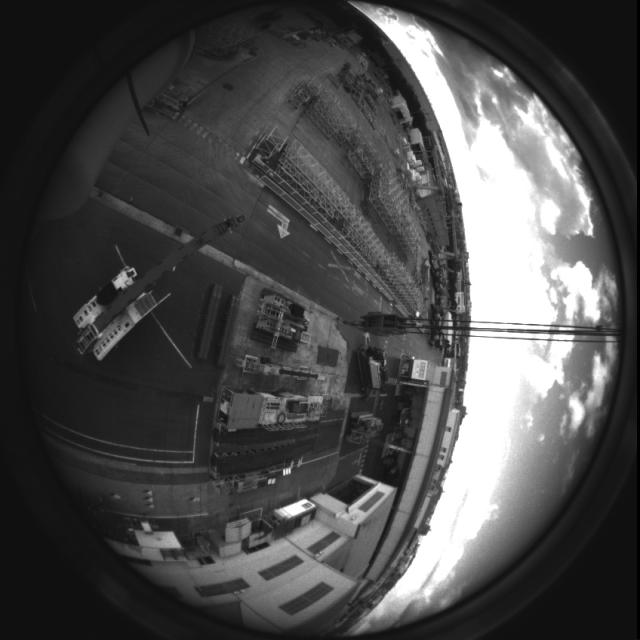rope: (337, 305, 638, 346)
sky: (322, 0, 620, 637)
